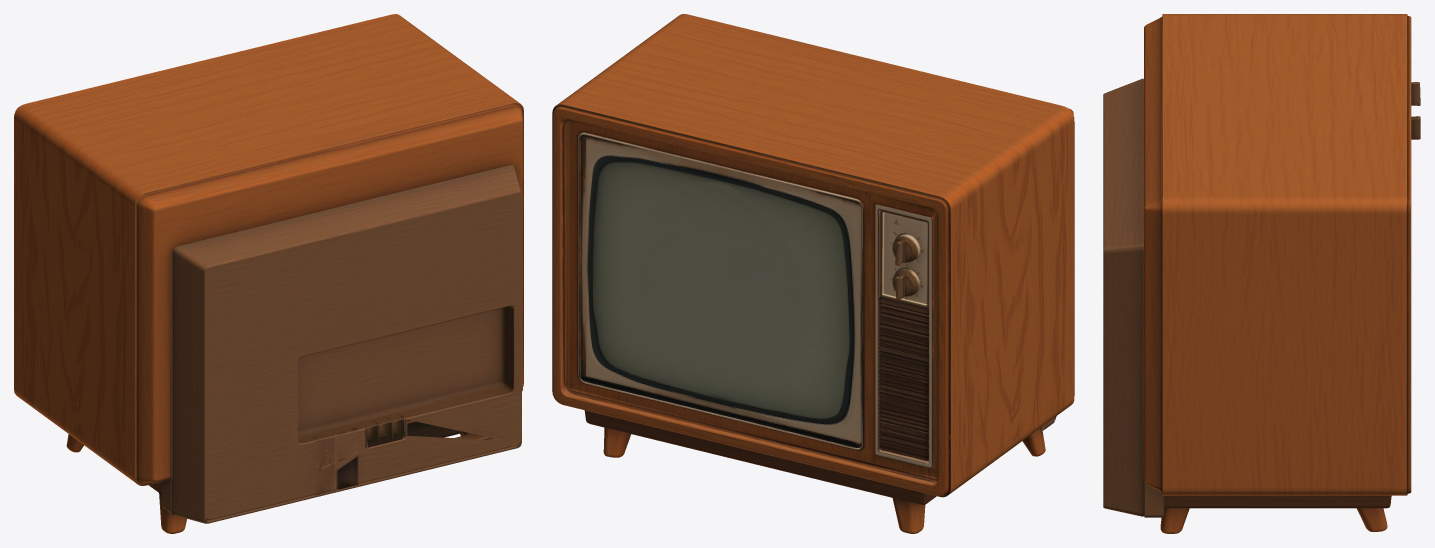
File: OparetionRoom_AI_Prop.fbx
The picture shows the model from 3 angles, left to right: view 1: azimuth 30°, elevation 25°; view 2: azimuth 150°, elevation 25°; view 3: azimuth 270°, elevation 25°; orthographic projection. The views are drawn at different scales.
Visible parts, largest first — view 1: OparetionRoom_AI_Prop; view 2: OparetionRoom_AI_Prop; view 3: OparetionRoom_AI_Prop.
Boxes of the visible parts, x1,y1,x2,y2 form: OparetionRoom_AI_Prop: (14,14,523,533); OparetionRoom_AI_Prop: (552,14,1074,533); OparetionRoom_AI_Prop: (1103,14,1420,533).
Size of the model in its own units: 105 by 88.98 by 73.19.
